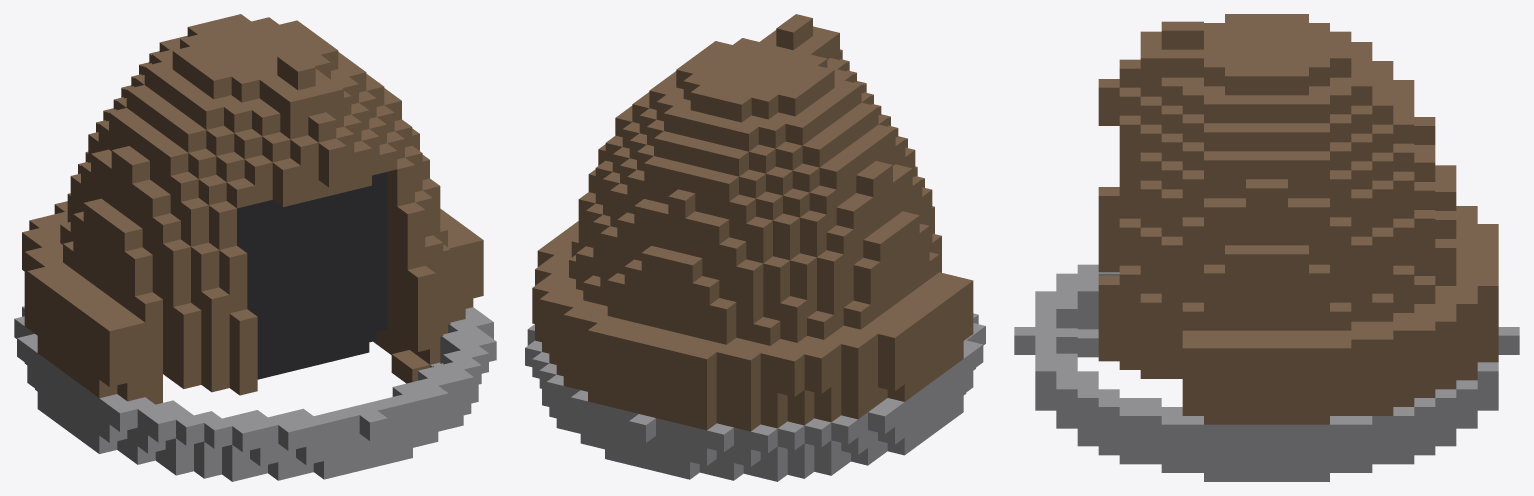
Rendered from cloth_uncommon_helmet_lod1.glb.
3 renders of one model, left to right at view 1: azimuth 30°, elevation 25°; view 2: azimuth 150°, elevation 25°; view 3: azimuth 270°, elevation 25°, orthographic. The views are drawn at different scales.
Parts seen in each view (by area): view 1: cloth_uncommon_helmet_lod1; view 2: cloth_uncommon_helmet_lod1; view 3: cloth_uncommon_helmet_lod1.
Part boxes in pixels (left/top/right/bottom): cloth_uncommon_helmet_lod1: left=14, top=14, right=496, bottom=481; cloth_uncommon_helmet_lod1: left=525, top=14, right=985, bottom=481; cloth_uncommon_helmet_lod1: left=1014, top=14, right=1519, bottom=481.
Size of the model in its own units: 0.504 by 0.456 by 0.576.
